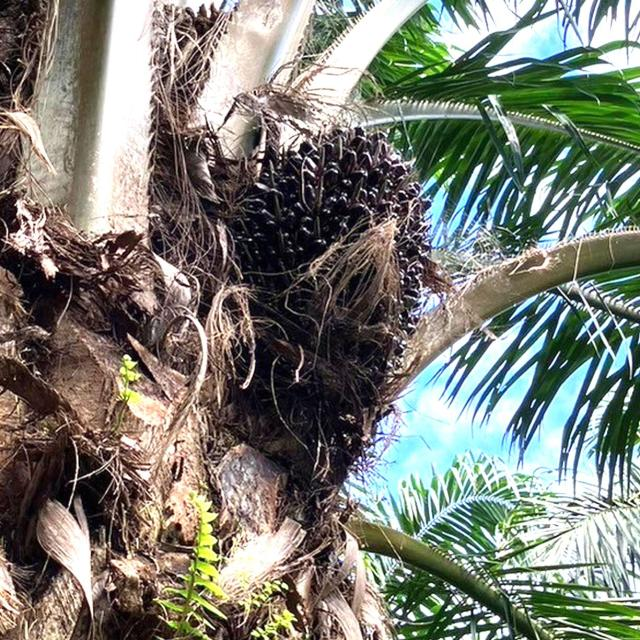ripe: (216, 113, 437, 410)
